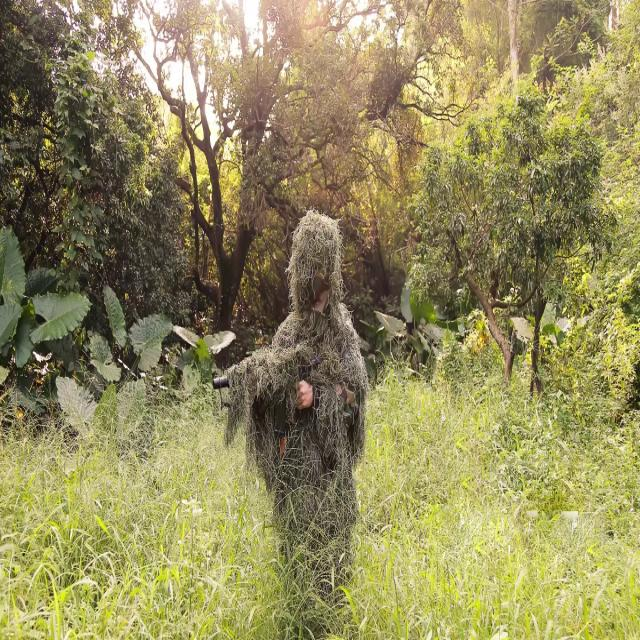Camouflage: (210, 211, 368, 632)
